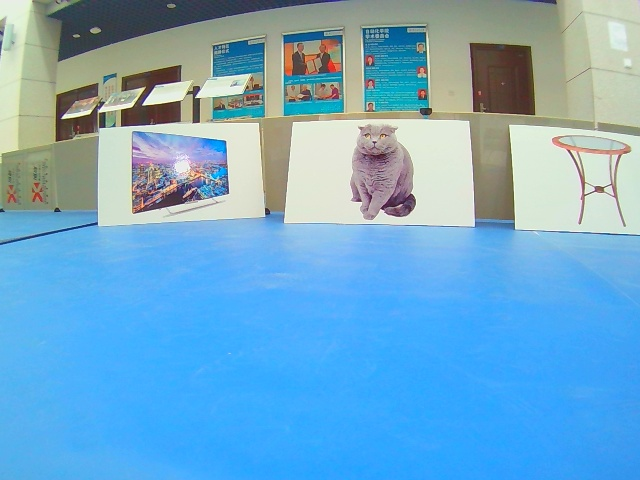pet: (284, 119, 477, 228)
table: (508, 125, 637, 238)
tv: (98, 123, 267, 226)
